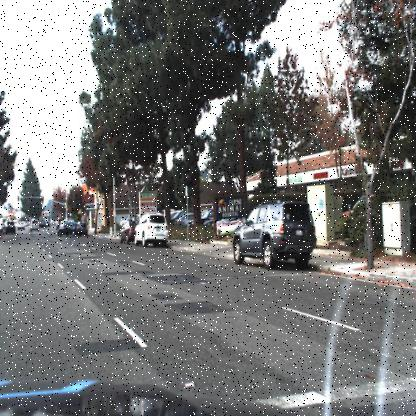car: (227, 197, 321, 273), (131, 210, 170, 250), (118, 214, 137, 249), (56, 220, 86, 241), (176, 209, 198, 228), (195, 207, 218, 223), (28, 216, 42, 233)
